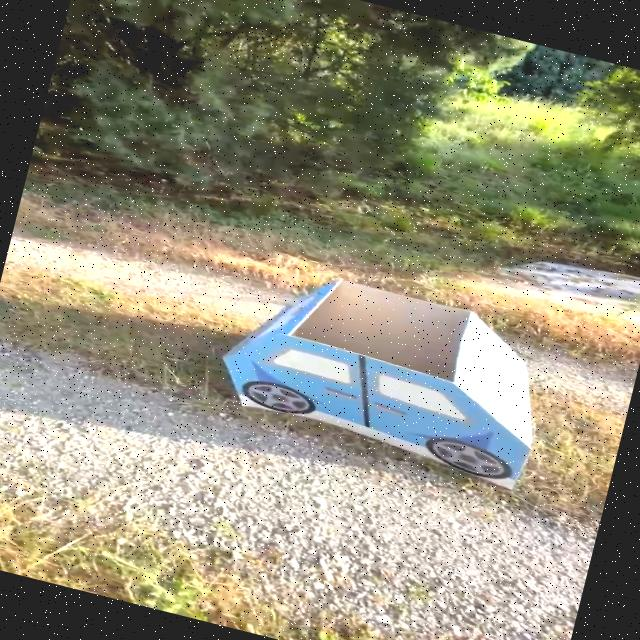blue_car: (158, 243, 605, 528)
